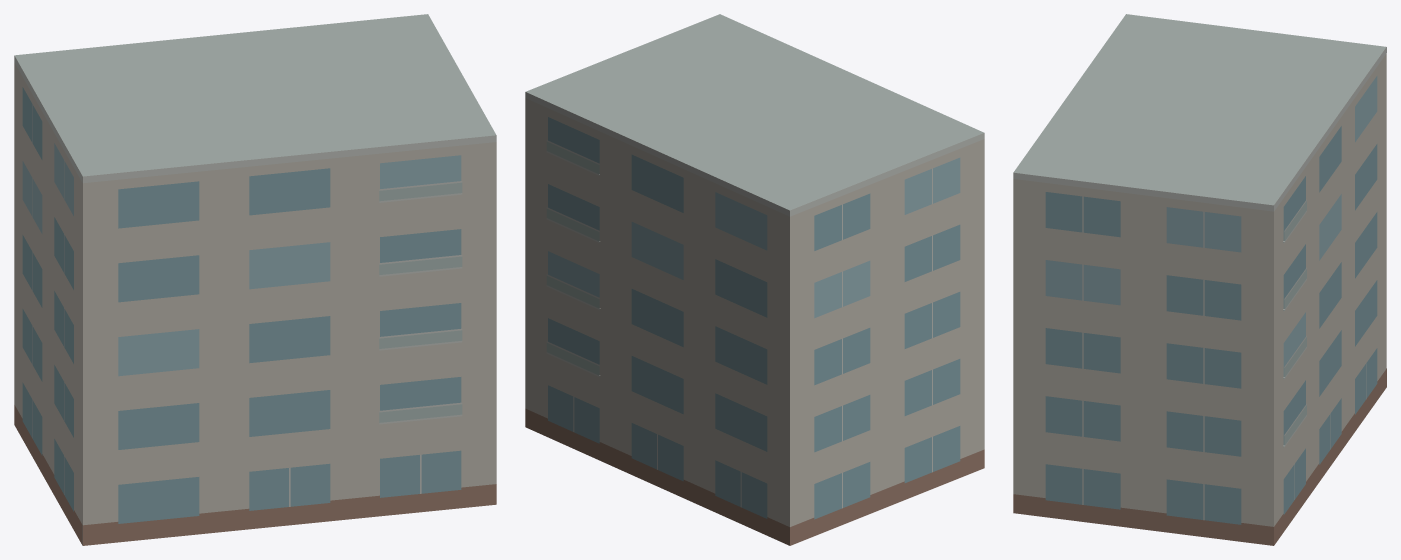
Rendered from survey-upis-32966598.glb.
The picture shows the model from 3 angles, left to right: view 1: azimuth 30°, elevation 25°; view 2: azimuth 150°, elevation 25°; view 3: azimuth 270°, elevation 25°; orthographic projection. The views are drawn at different scales.
Parts seen in each view (by area): view 1: survey-upis-32966598.tmp; view 2: survey-upis-32966598.tmp; view 3: survey-upis-32966598.tmp.
Part boxes in pixels (x1=…): survey-upis-32966598.tmp: x1=14, y1=14, x2=496, y2=545; survey-upis-32966598.tmp: x1=525, y1=14, x2=984, y2=545; survey-upis-32966598.tmp: x1=1013, y1=14, x2=1386, y2=545.
Bounding box in the file's own units: 16.05 × 13.3 × 13.23.
